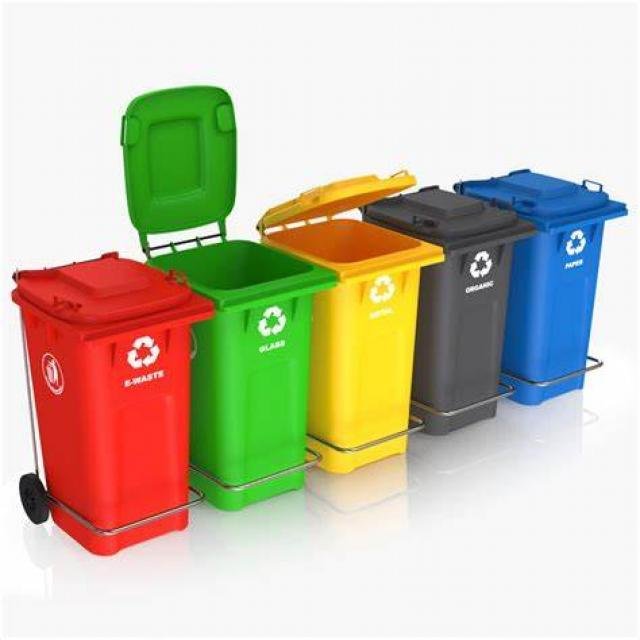garbage container: (99, 76, 336, 512), (252, 167, 446, 516), (10, 243, 188, 572), (458, 141, 624, 419), (377, 165, 534, 442)
